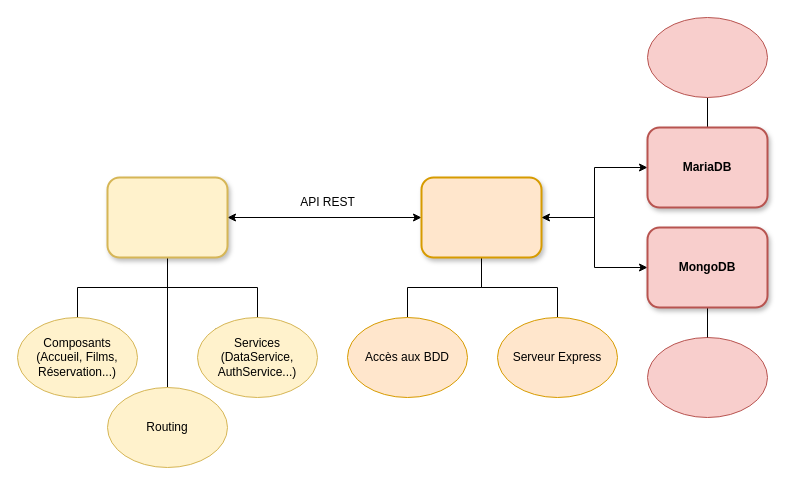
Image size: 792x485. Some labels were removed from this diagram. Each missing label, with the centre of its shape:
"Client Angular" goes at (168,218).
"Films, Séance, Réservation..." goes at (707,57).
"Serveur Node.js" goes at (482,218).
"Utilisateurs" goes at (707,377).
